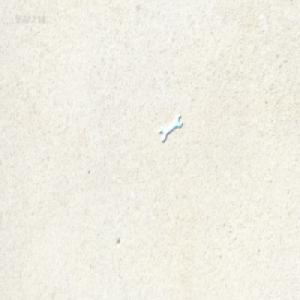Wrench: (159, 114, 181, 142)
